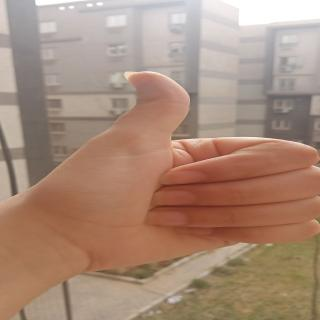ALIF: (33, 64, 320, 278)
